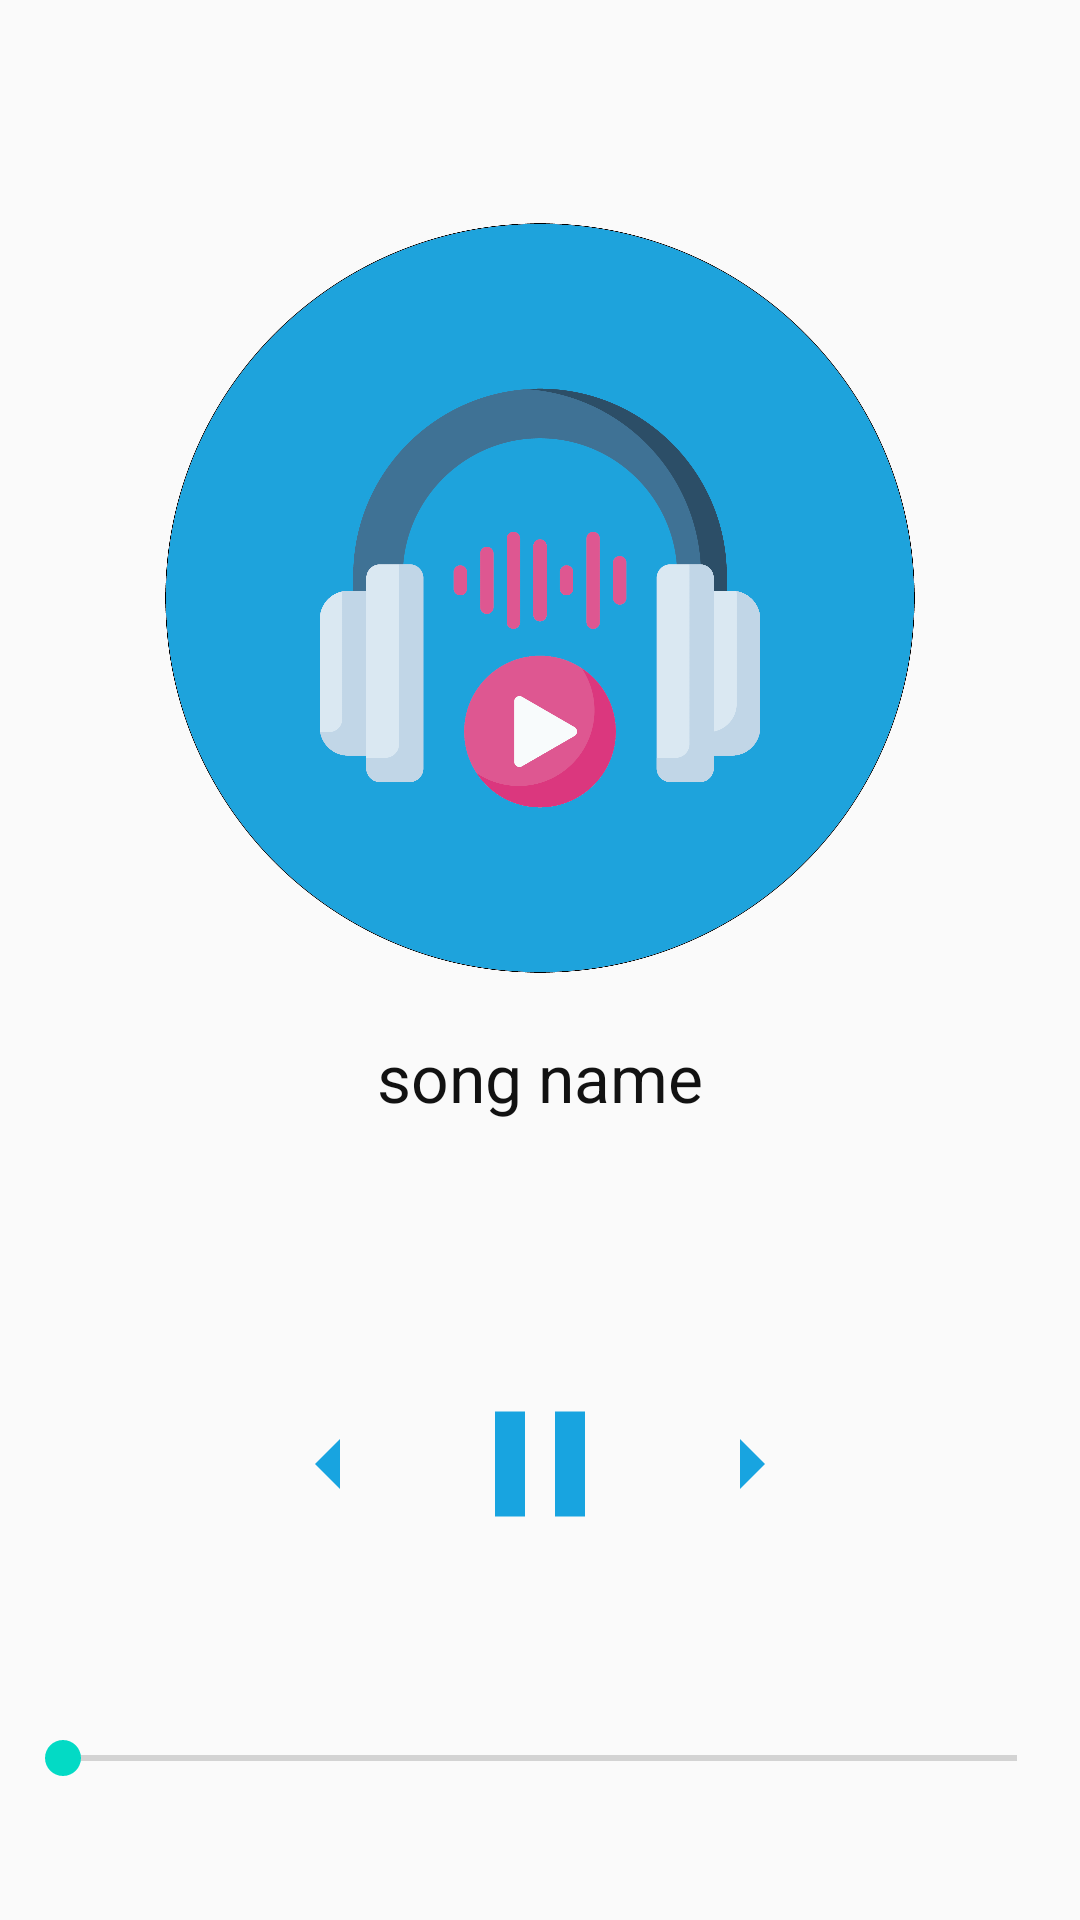

Locate icon controls on the screen. Image size 1080px×1920px, boxes as (x1, y1, x2, y2).
arrow left: (315, 1439, 340, 1489)
arrow right: (740, 1439, 765, 1489)
pause: (495, 1411, 585, 1517)
